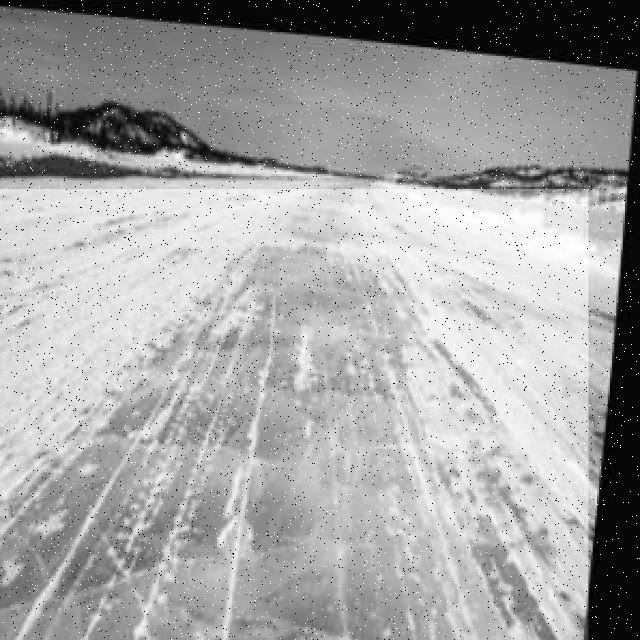ice-road: (0, 189, 588, 640)
